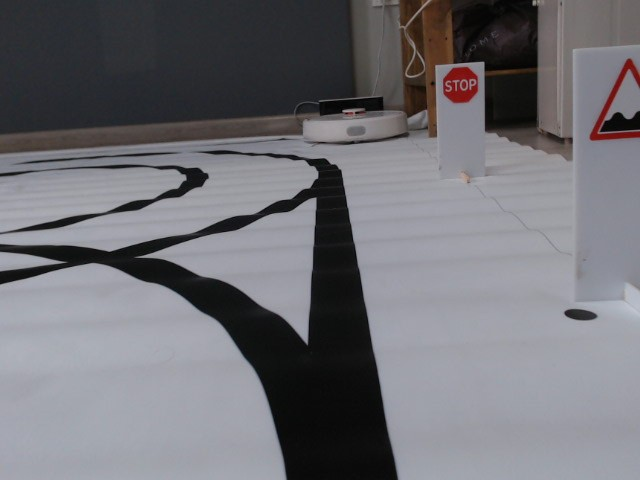Nerov: (586, 56, 640, 144)
